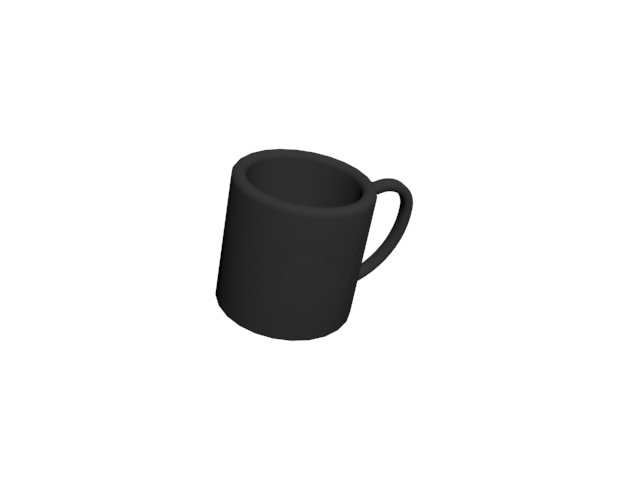mug: (209, 145, 416, 344)
